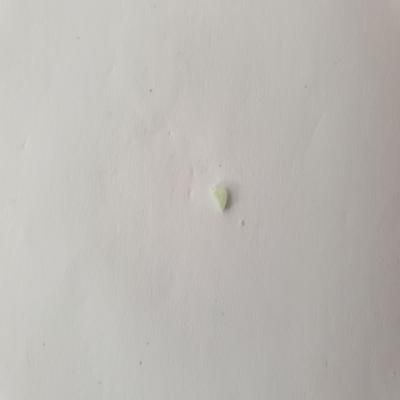plastic: (209, 184, 238, 216)
